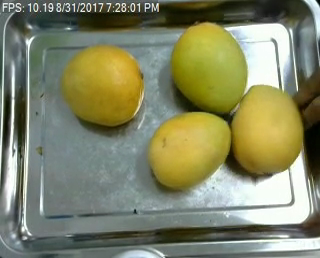Mango: (60, 41, 144, 128), (170, 21, 246, 112), (230, 85, 302, 175), (149, 113, 230, 190)
